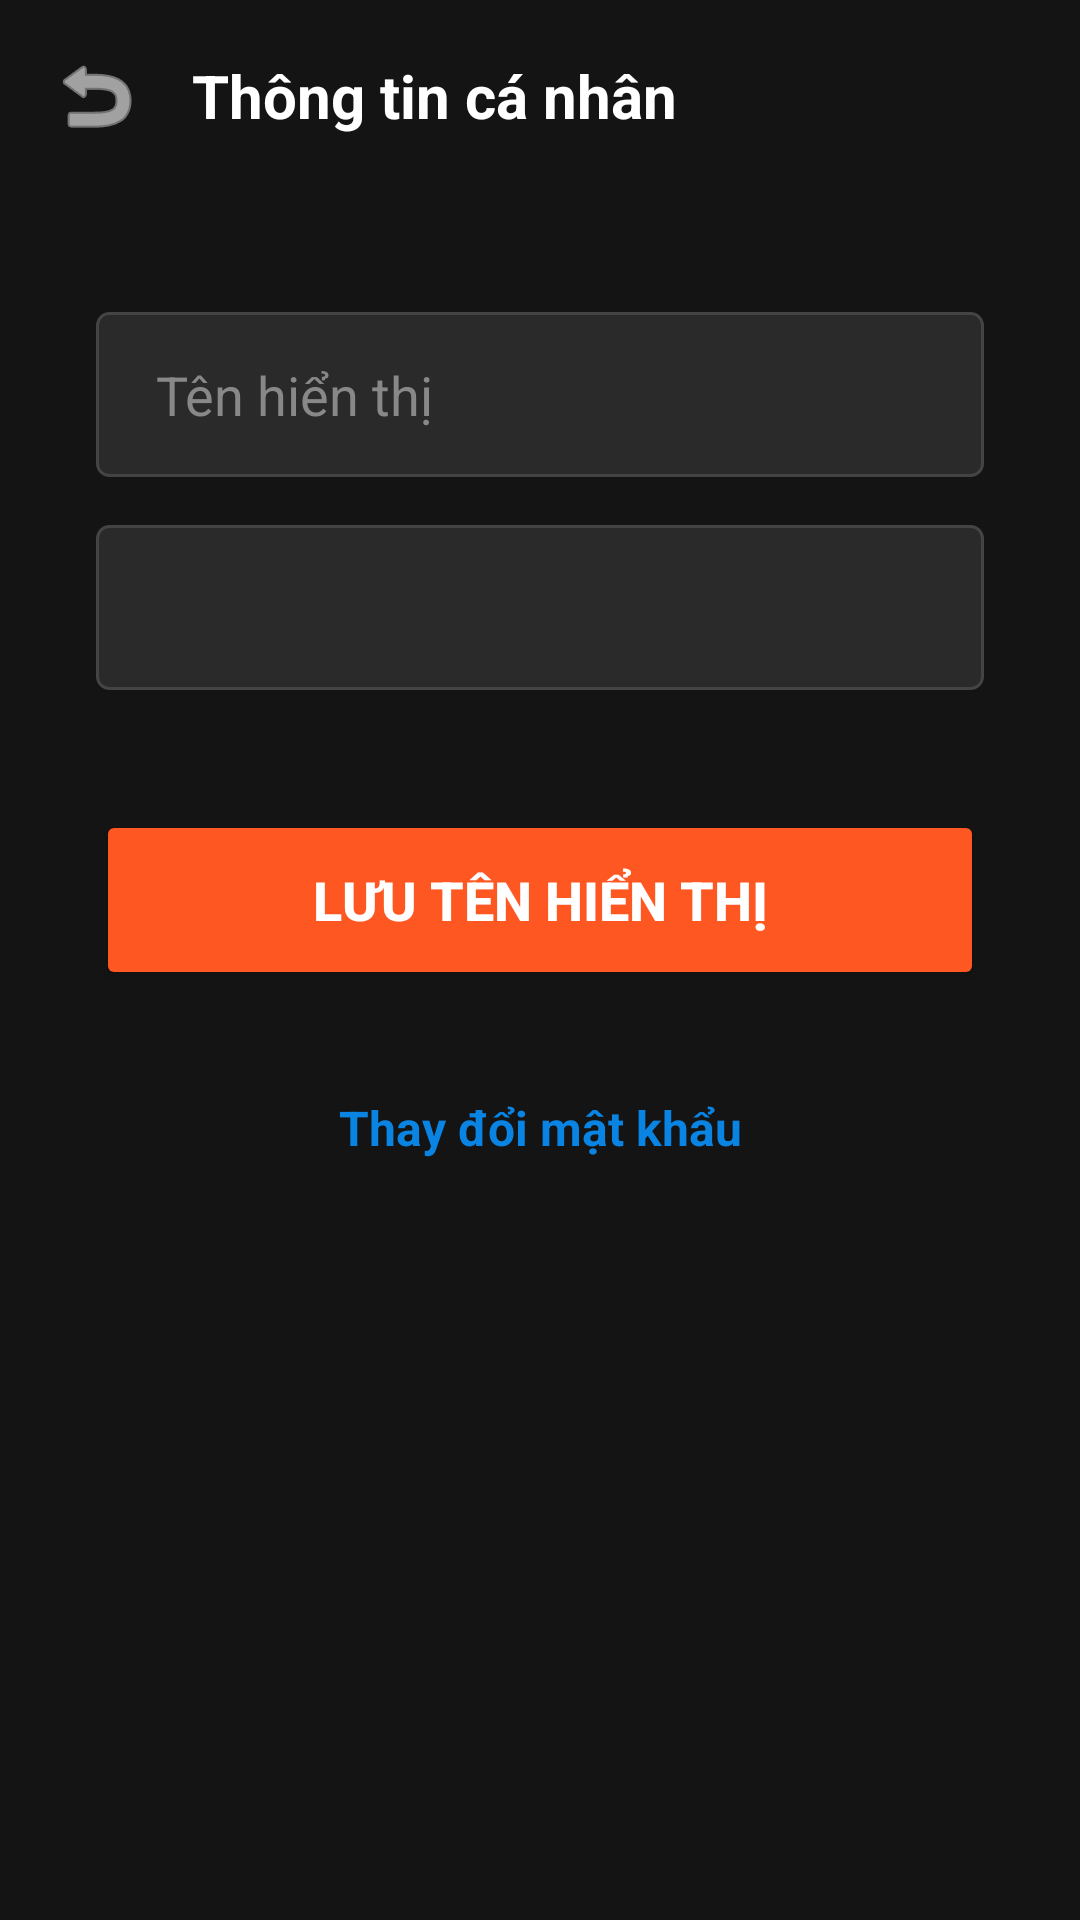

Icon click points for this 1080x1920 phone screenshot, format [x,y]:
revert: [97,96]
